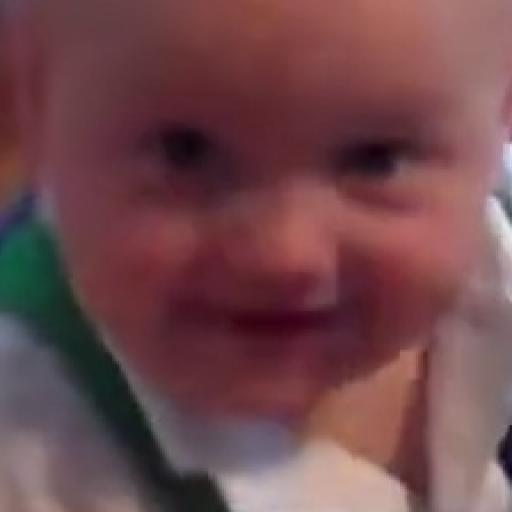Autism: (53, 20, 512, 475)
